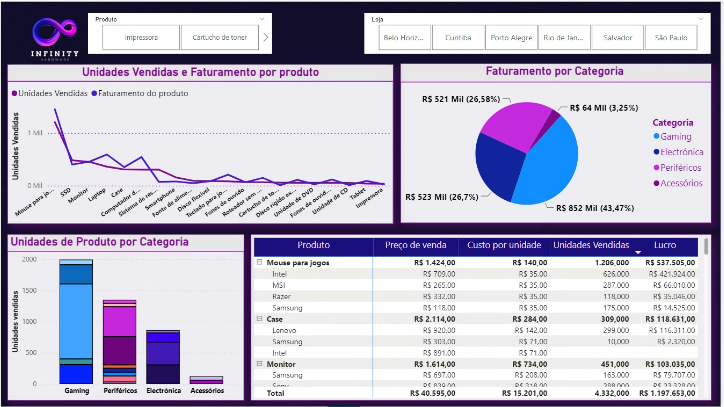

This screenshot's page, from the dashboard's own definition file:
{"tool":"powerbi","page":{"name":"Produtos","canvas":[1280,720],"ordinal":2},"visuals":[{"type":"pivotTable","fields":{"Rows":["Products.Produto","Products.Fabricante"],"Values":["Sum(Products.Preço)","Sum(Products.Custo por unidade)","Sales.Total Unidades Vendidas","Sales.Profit"]},"box":[444,403.9,819.3,305.1],"z":0},{"type":"pieChart","title":"Faturamento por Categoria","fields":{"Category":["Sales by Category.Categoria"],"Y":["Sales.Total Revenue"]},"box":[710.5,84.5,552.9,300.8],"z":1000},{"type":"image","box":[0,0,190.5,90.2],"z":2000},{"type":"columnChart","title":"Unidades de Produto por Categoria ","fields":{"Category":["Sales by Category.Categoria"],"Series":["Sales.Produto"],"Y":["Sum(Sales.Unidades vendidas)"]},"box":[11.5,403.9,421.1,305.1],"z":3000},{"type":"lineChart","title":"Unidades Vendidas e Faturamento por produto","fields":{"Category":["Sales.Produto"],"Y":["Sales.Total Unidades Vendidas"],"Y2":["Sum(Sales.Vendas Totais)"]},"box":[11.5,85,686.1,298],"z":4000},{"type":"shape","box":[169,10,1098.6,58.7],"z":5000},{"type":"slicer","fields":{"Values":["CalendarTable.Date.Variation.Hierarquia de datas.Ano"]},"box":[1172.9,16.6,95.4,42.4],"z":6000},{"type":"textbox","box":[1139,21.5,57.5,30.3],"z":7000},{"type":"textbox","box":[724,43,40.1,18.6],"z":8000},{"type":"image","box":[714.8,8,45.8,44.4],"z":9000},{"type":"textbox","box":[820.8,45.8,57.3,20.1],"z":10000},{"type":"image","box":[925.3,12.9,37.2,38.7],"z":11000},{"type":"textbox","box":[915.3,44.4,87.4,18.6],"z":12000},{"type":"actionButton","box":[910,14.3,87.4,48.7],"z":13000},{"type":"image","box":[805,11.5,65.9,44.4],"z":14000},{"type":"slicer","fields":{"Values":["Sales.Loja"]},"box":[171.9,14.3,468.4,45.8],"z":15000},{"type":"actionButton","box":[805.3,14,62.2,51.3],"z":16000},{"type":"actionButton","box":[710.5,12.9,61.6,50.1],"z":17000}]}

Visuals, with their boxes in screenshot pixels (x1, y1, x2, y2), scaled from the page's 1280x720 canvas onto the 724x407 screenshot:
pivotTable - Products.Produto x Products.Fabricante: detection(251, 228, 715, 401)
"Faturamento por Categoria" pieChart: detection(402, 48, 715, 218)
image: detection(0, 0, 108, 51)
"Unidades de Produto por Categoria " columnChart: detection(7, 228, 245, 401)
"Unidades Vendidas e Faturamento por produto" lineChart: detection(7, 48, 395, 217)
shape: detection(96, 6, 717, 39)
slicer - CalendarTable.Date.Variation.Hierarquia de datas.Ano: detection(663, 9, 717, 33)
textbox: detection(644, 12, 677, 29)
textbox: detection(410, 24, 432, 35)
image: detection(404, 5, 430, 30)
textbox: detection(464, 26, 497, 37)
image: detection(523, 7, 544, 29)
textbox: detection(518, 25, 567, 36)
actionButton: detection(515, 8, 564, 36)
image: detection(455, 7, 493, 32)
slicer - Sales.Loja: detection(97, 8, 362, 34)
actionButton: detection(455, 8, 491, 37)
actionButton: detection(402, 7, 437, 36)
